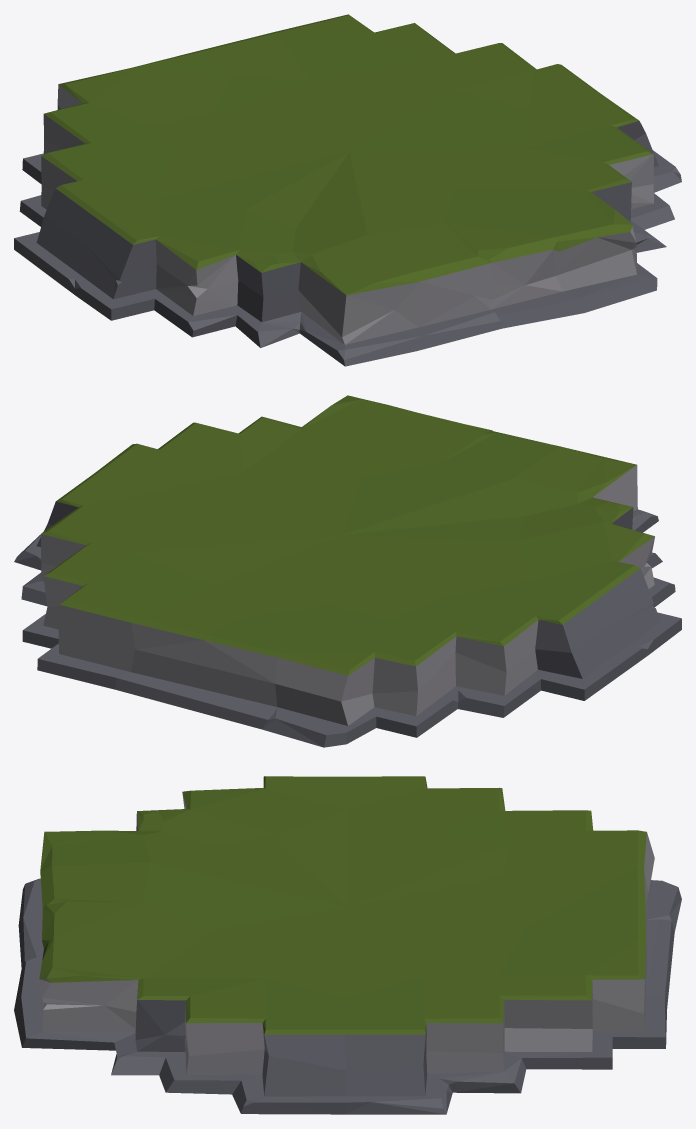
The model's file is Temple  Terrain_1.fbx.
The picture shows the model from 3 angles, top to bottom: view 1: azimuth 30°, elevation 25°; view 2: azimuth 150°, elevation 25°; view 3: azimuth 270°, elevation 25°; orthographic projection. The views are drawn at different scales.
Parts seen in each view (by area): view 1: Temple Terrain_1; view 2: Temple Terrain_1; view 3: Temple Terrain_1.
Boxes of the visible parts, <box> form: Temple Terrain_1: <box>14,14,681,366</box>; Temple Terrain_1: <box>14,395,681,747</box>; Temple Terrain_1: <box>14,776,681,1114</box>.
Size of the model in its own units: 19.14 by 2.16 by 18.57.
